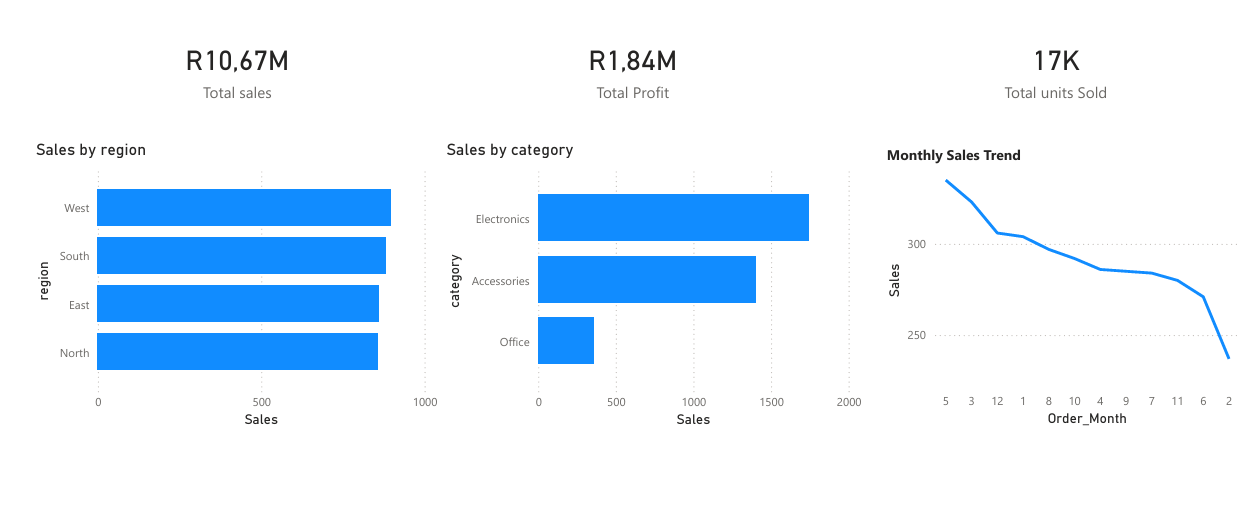

What the dashboard file says about the page in this screenshot:
{"tool":"powerbi","page":{"name":"Dashboard","canvas":[1280,720],"ordinal":0},"visuals":[{"type":"card","fields":{"Values":["Sum(raw data- ecommerce csv.sales)"]},"box":[95.7,0,260,104.3],"z":0},{"type":"card","fields":{"Values":["Sum(raw data- ecommerce csv.profit)"]},"box":[507.1,0,265.7,104.3],"z":1},{"type":"card","fields":{"Values":["Sum(raw data- ecommerce csv.quantity)"]},"box":[952.9,0,260,104.3],"z":2},{"type":"clusteredBarChart","fields":{"Category":["total sales by region.region"],"Y":["Sum(total sales by region.Totalsales)"]},"box":[10,126,430,306],"z":3},{"type":"clusteredBarChart","fields":{"Category":["total sales by product category.category"],"Y":["Sum(total sales by product category.TotalSales)"]},"box":[440,126,444,306],"z":4},{"type":"lineChart","fields":{"Category":["Monthly sales trend.Order_Year","Monthly sales trend.Order_Month"],"Y":["Sum(Monthly sales trend.TotalSALES)"]},"box":[901.4,125.7,378.6,305.7],"z":5},{"type":"textbox","box":[901.4,125.7,362.9,32.9],"z":6}]}

Visuals, with their boxes on the page's 1280x720 design canvas (x1, y1, x2, y2). These are canvas units, not pixel positions in the 1241x510 screenshot, which may show the page scaled, cropped or inside an application window:
card - Sum(raw data- ecommerce csv.sales): bbox(96, 0, 356, 104)
card - Sum(raw data- ecommerce csv.profit): bbox(507, 0, 773, 104)
card - Sum(raw data- ecommerce csv.quantity): bbox(953, 0, 1213, 104)
clusteredBarChart - total sales by region.region x Sum(total sales by region.Totalsales): bbox(10, 126, 440, 432)
clusteredBarChart - total sales by product category.category x Sum(total sales by product category.TotalSales): bbox(440, 126, 884, 432)
lineChart - Monthly sales trend.Order_Year x Monthly sales trend.Order_Month: bbox(901, 126, 1280, 431)
textbox: bbox(901, 126, 1264, 159)
